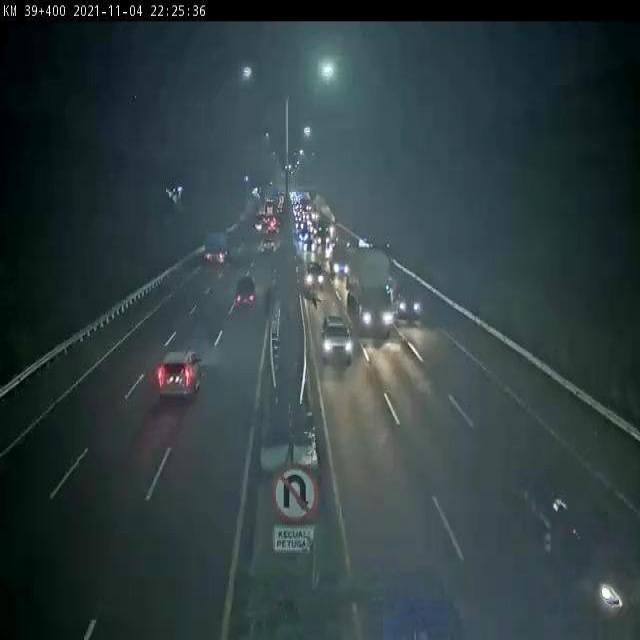car: (527, 481, 640, 611), (155, 351, 204, 398), (390, 273, 425, 324), (320, 319, 353, 365), (233, 276, 260, 313), (327, 239, 348, 277), (303, 263, 324, 288), (259, 237, 276, 256)
truck-s-: (202, 229, 229, 271)
truck-xl-: (346, 247, 392, 336)
